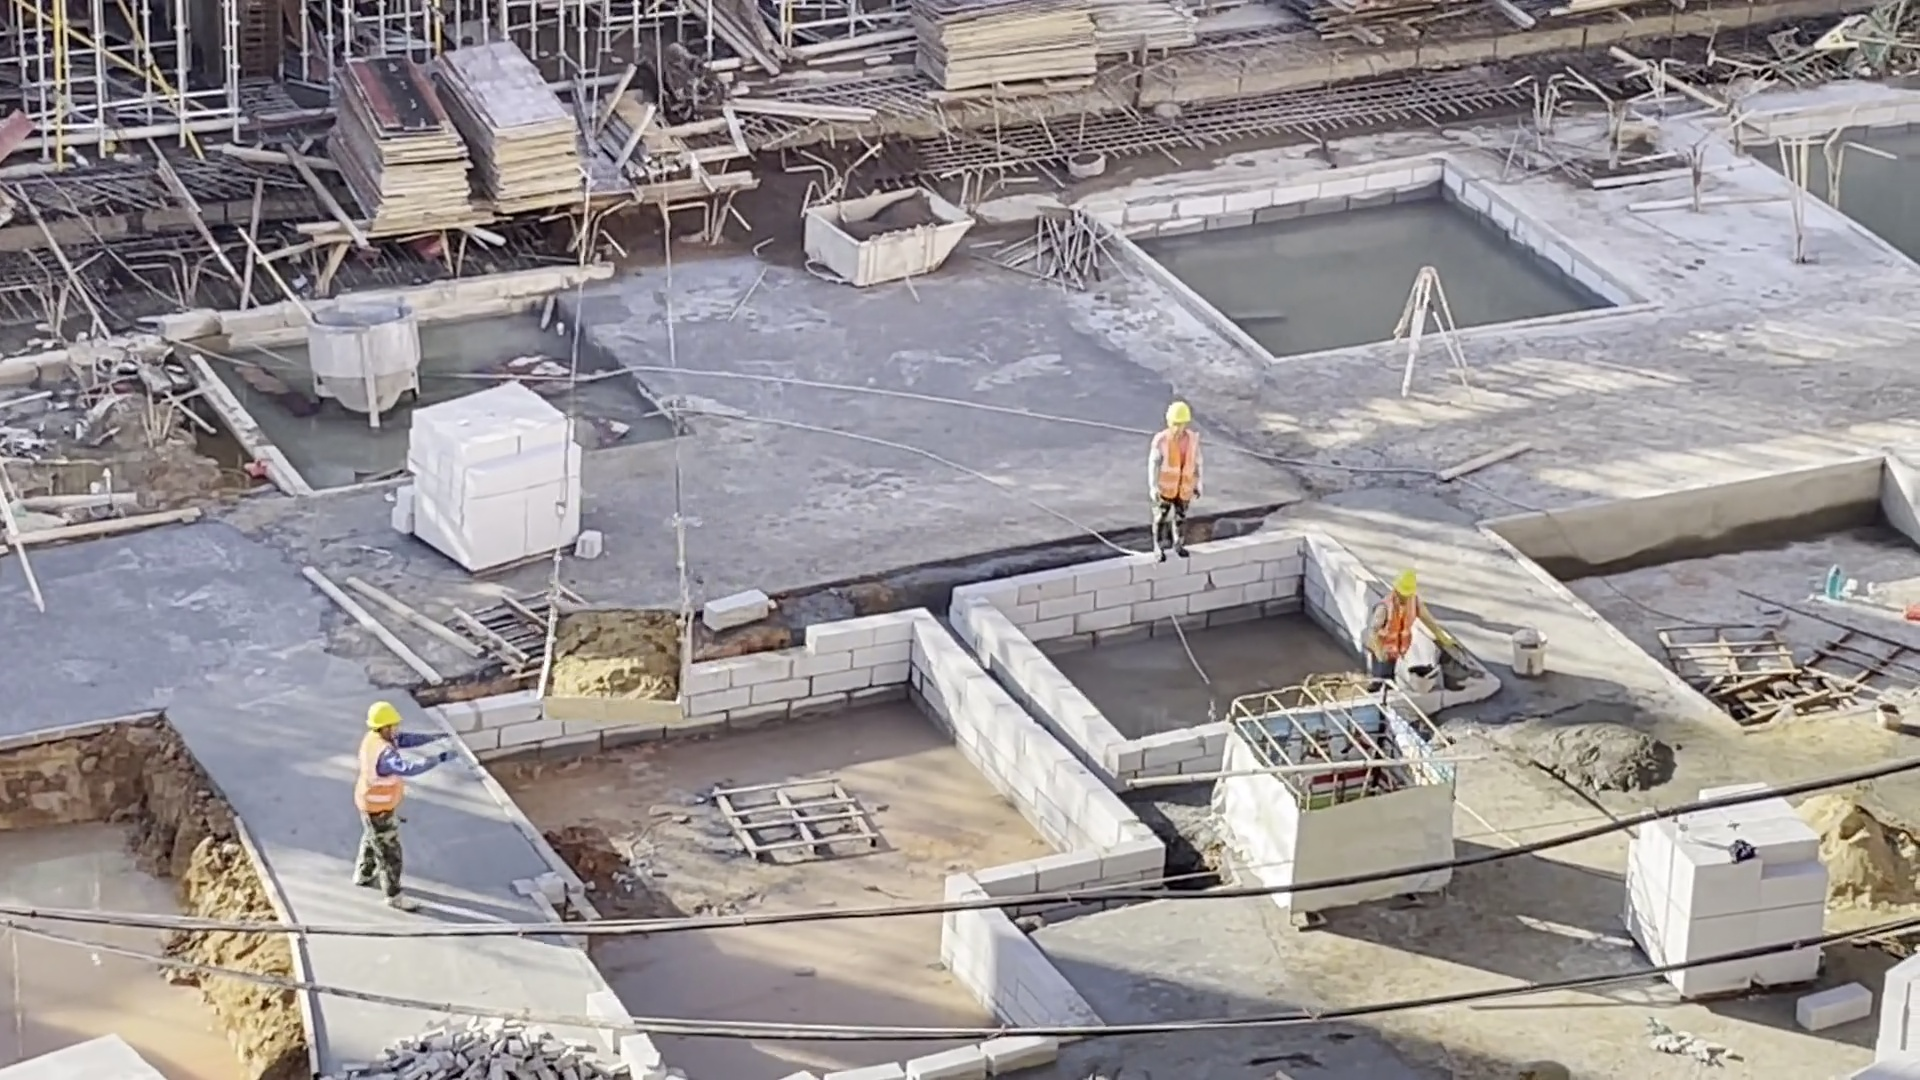board: (318, 50, 477, 234), (443, 41, 593, 220), (900, 1, 1100, 104)
brick: (387, 376, 584, 572), (1623, 831, 1830, 938)
helmet: (366, 704, 404, 731), (1387, 567, 1417, 597), (1162, 399, 1193, 425)
hopper: (522, 606, 695, 726), (802, 190, 971, 286), (303, 297, 424, 426)
person: (341, 700, 466, 917), (1355, 561, 1456, 685), (1144, 398, 1212, 563)
vest: (357, 730, 406, 814), (1152, 429, 1200, 502), (1371, 594, 1417, 658)
